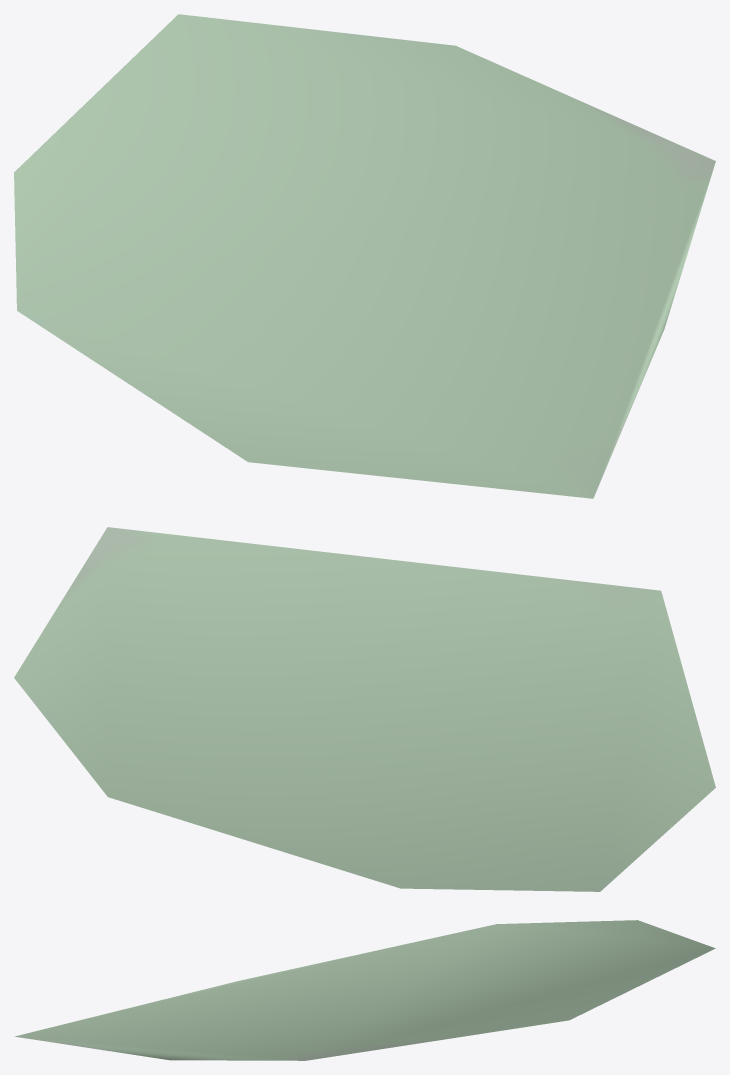
The model's file is TROLLHOLE02_HOLECAP62.fbx.
The picture shows the model from 3 angles, top to bottom: view 1: azimuth 30°, elevation 25°; view 2: azimuth 150°, elevation 25°; view 3: azimuth 270°, elevation 25°; orthographic projection. The views are drawn at different scales.
Parts seen in each view (by area): view 1: TROLLHOLE02_HOLECAP62; view 2: TROLLHOLE02_HOLECAP62; view 3: TROLLHOLE02_HOLECAP62.
Part boxes in pixels (bbox=[...]): TROLLHOLE02_HOLECAP62: bbox=[14, 14, 715, 498]; TROLLHOLE02_HOLECAP62: bbox=[14, 527, 715, 891]; TROLLHOLE02_HOLECAP62: bbox=[15, 920, 715, 1060].
Size of the model in its own units: 16727 by 4471 by 23197.
1 material, 1 textured.
